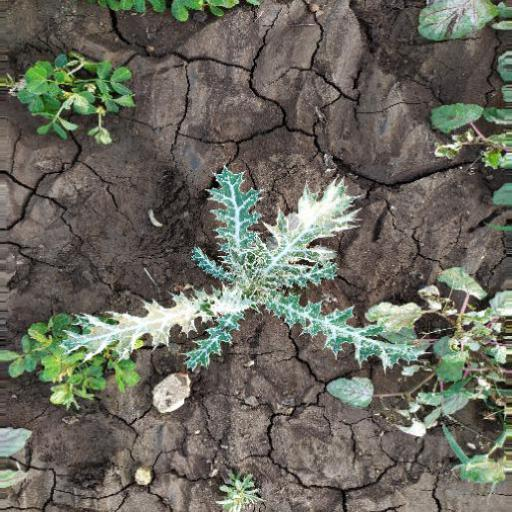weed: (70, 163, 427, 400), (9, 38, 145, 160)
